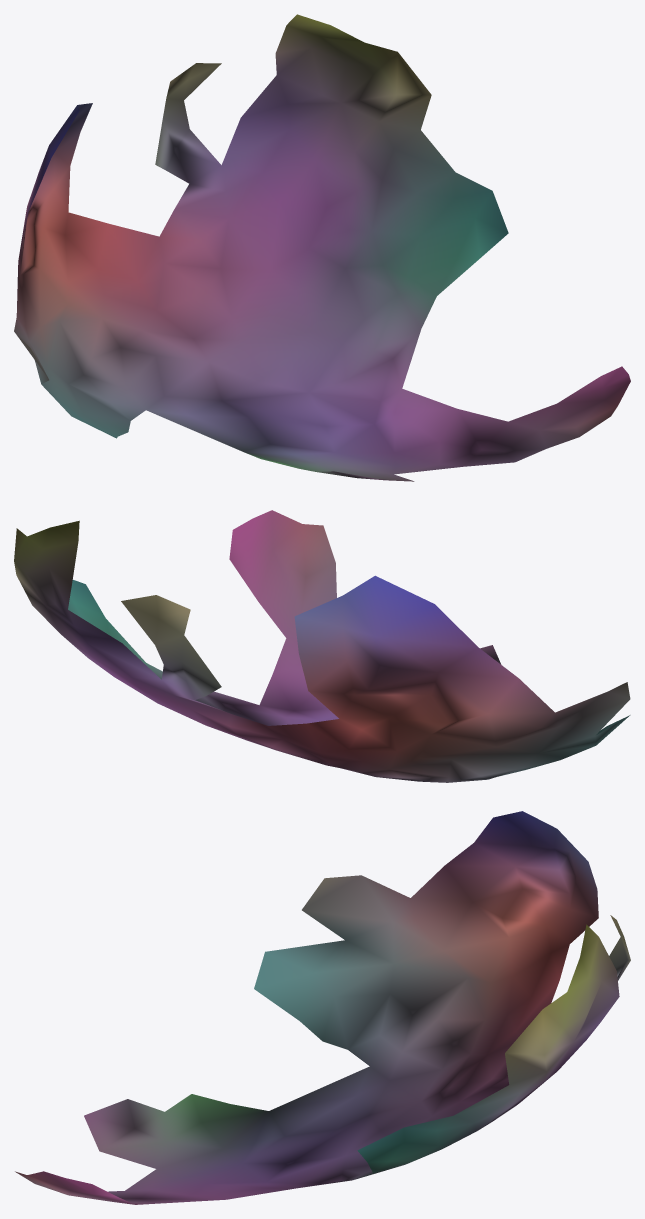
Rendered from space-nebulae-nebula_v56.fbx.
3 renders of one model, top to bottom at view 1: azimuth 30°, elevation 25°; view 2: azimuth 150°, elevation 25°; view 3: azimuth 270°, elevation 25°, orthographic. The views are drawn at different scales.
Parts seen in each view (by area): view 1: Nebula_v56; view 2: Nebula_v56; view 3: Nebula_v56.
Part boxes in pixels (box(x1,y1,x2,y2)): Nebula_v56: box(14, 14, 630, 481); Nebula_v56: box(14, 510, 630, 782); Nebula_v56: box(15, 811, 630, 1204).
Size of the model in its own units: 0.4931 by 0.2716 by 0.5.
